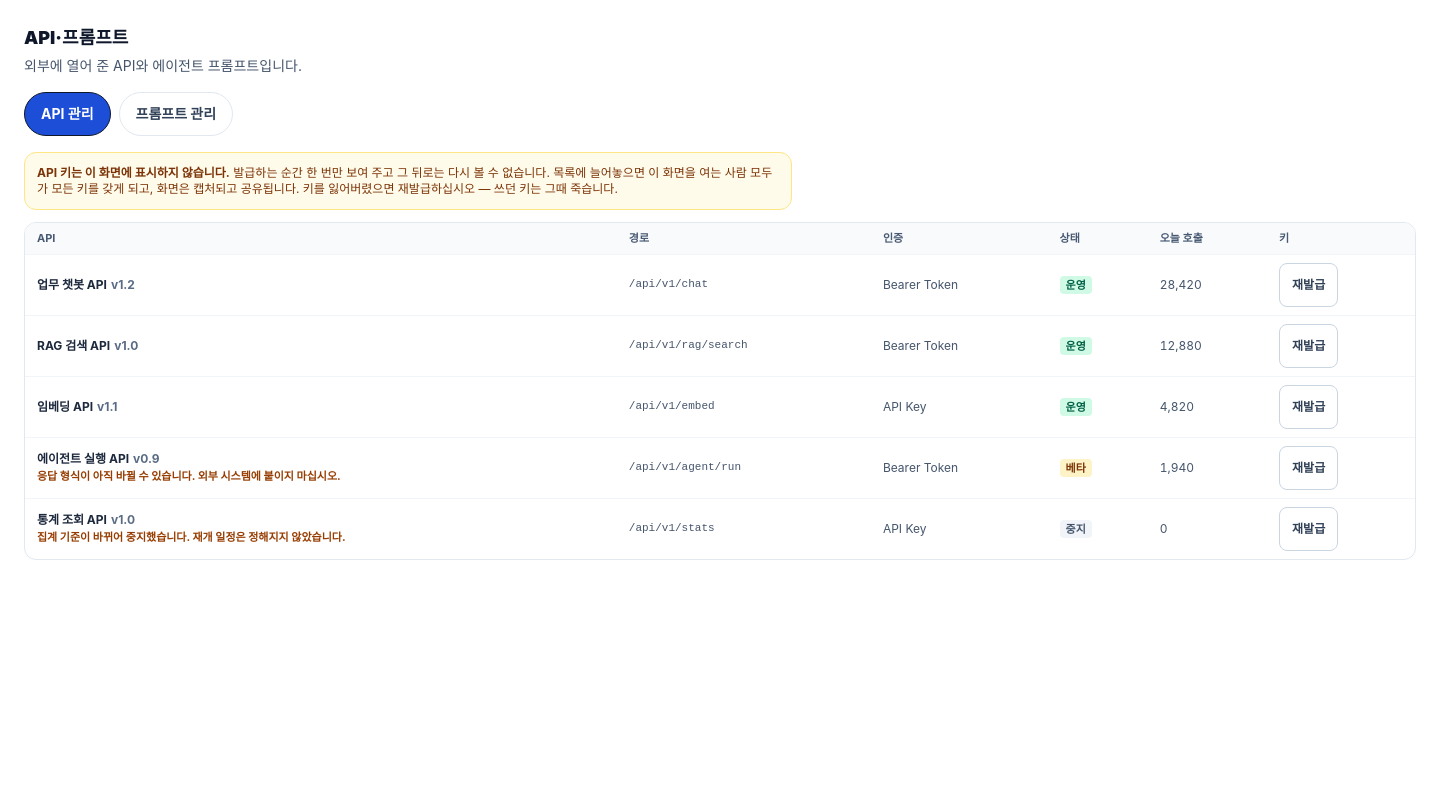
it: API · 프롬프트 › 프롬프트는 바꿨을 때 무엇이 달라지는지 적는다
Click the tab "프롬프트 관리": coordinates (176, 114) 118,92 -> 233,136
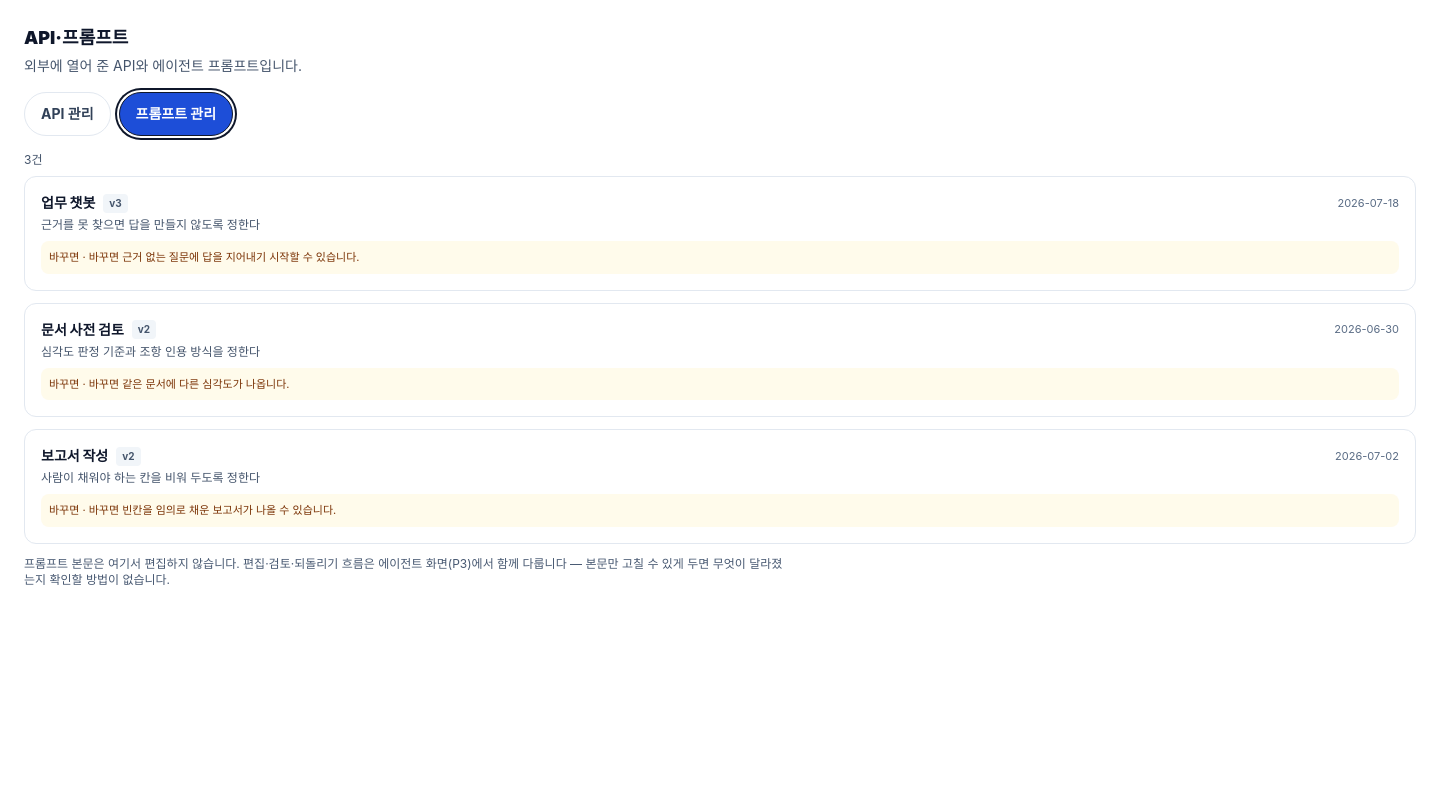
expect the text "바꾸면 · 바꾸면 근거 없는 질문에 답을 지어내기 시작할 수 있습니다." is shown: met, box 41,241 -> 1399,274
